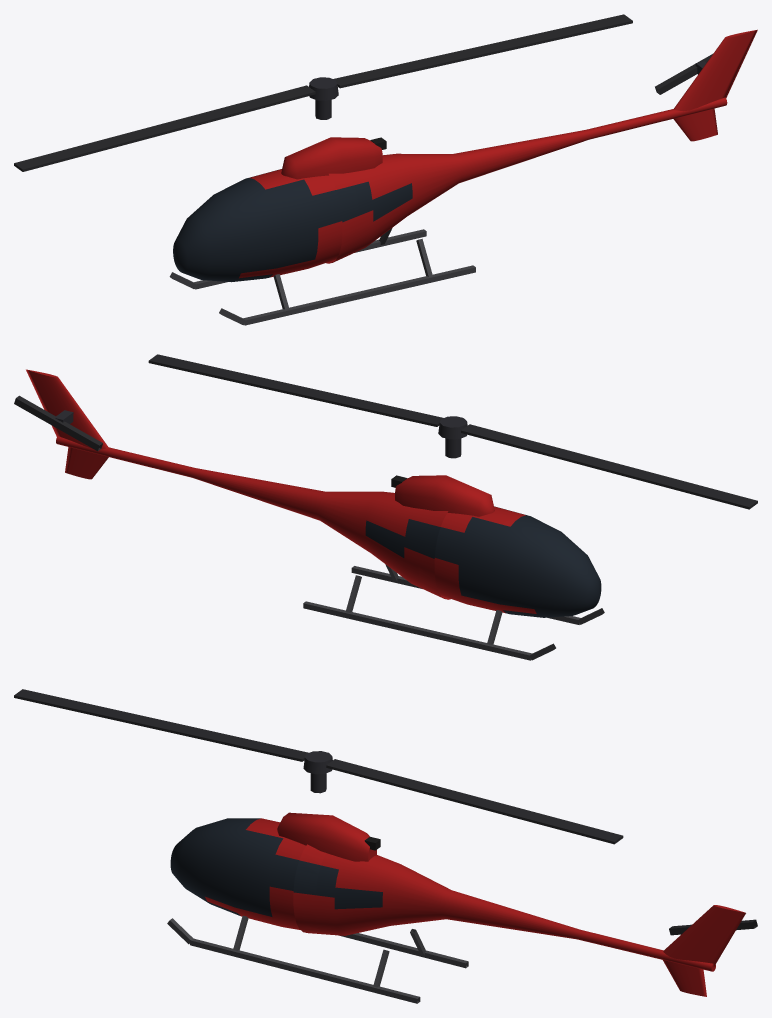
3 renders of one model, top to bottom at view 1: azimuth 30°, elevation 25°; view 2: azimuth 150°, elevation 25°; view 3: azimuth 330°, elevation 25°, orthographic.
Parts seen in each view (by area): view 1: r44; view 2: r44; view 3: r44.
Part boxes in pixels (x1=…): r44: x1=14, y1=14, x2=757, y2=325; r44: x1=14, y1=354, x2=757, y2=660; r44: x1=14, y1=689, x2=757, y2=1003.
Size of the model in its own units: 12.2 by 3.17 by 1.49.
